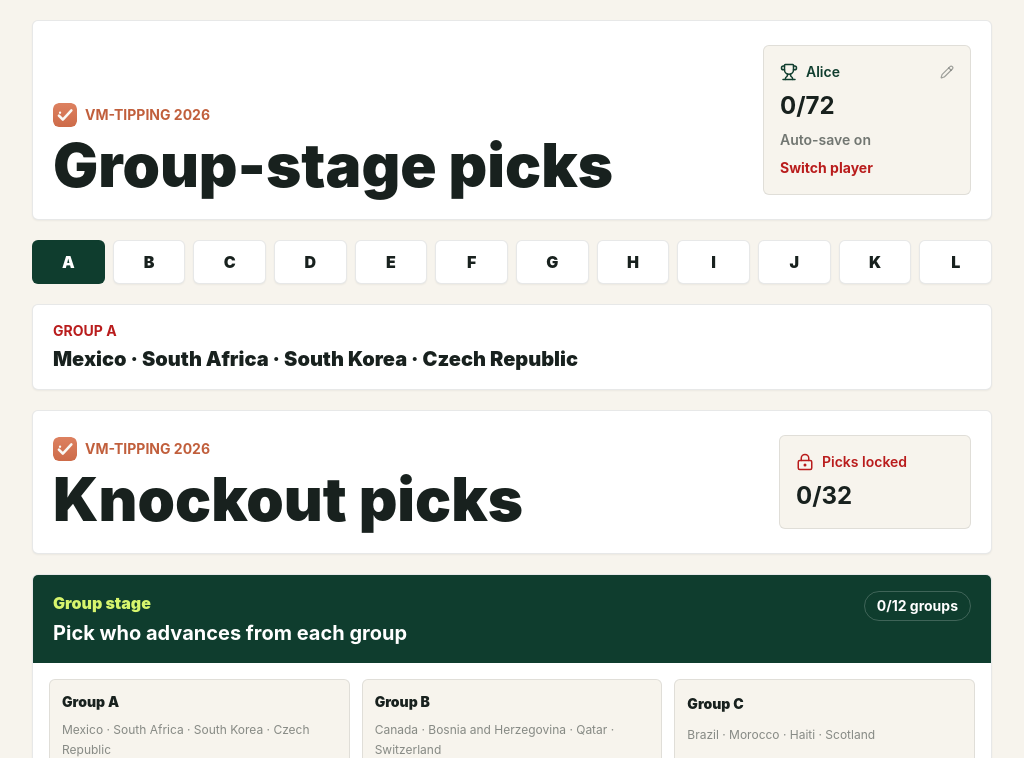
Test: PlayerPage › renaming updates the stored session and moves the local knockout picks
The image size is (1024, 758).
Click the button named "Edit name" at [947, 72], box left=940, top=65, right=954, bottom=79
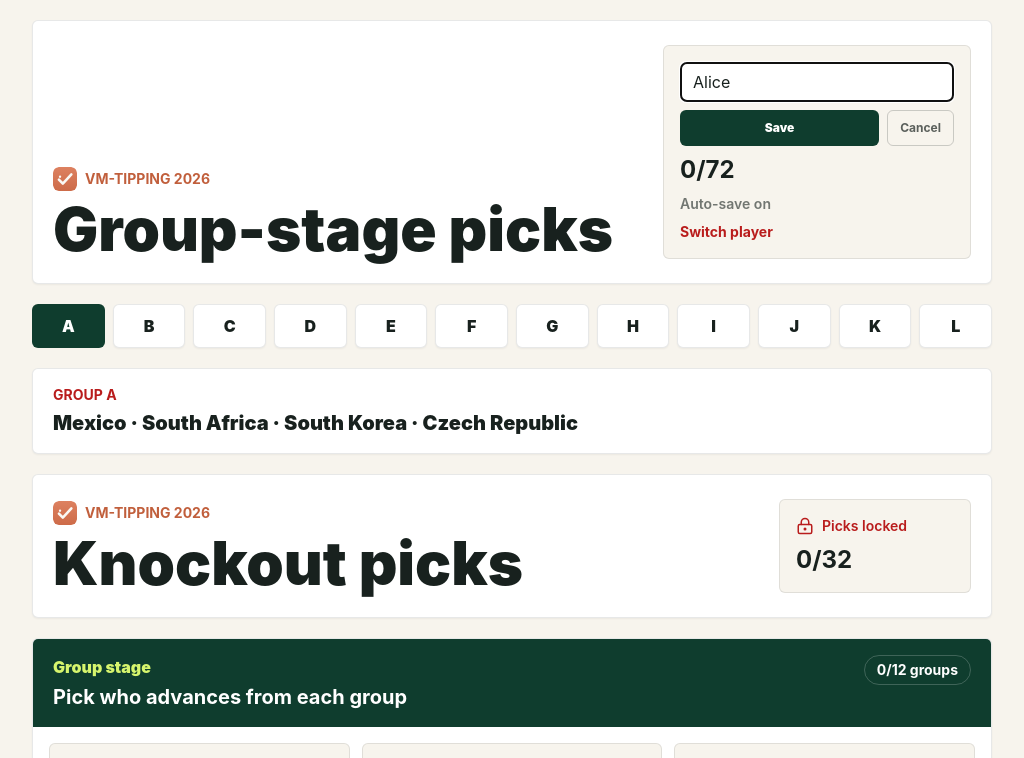
Replace the text in the field with placeholder "Your name" with "Alicia" at [817, 82], box left=680, top=62, right=954, bottom=102
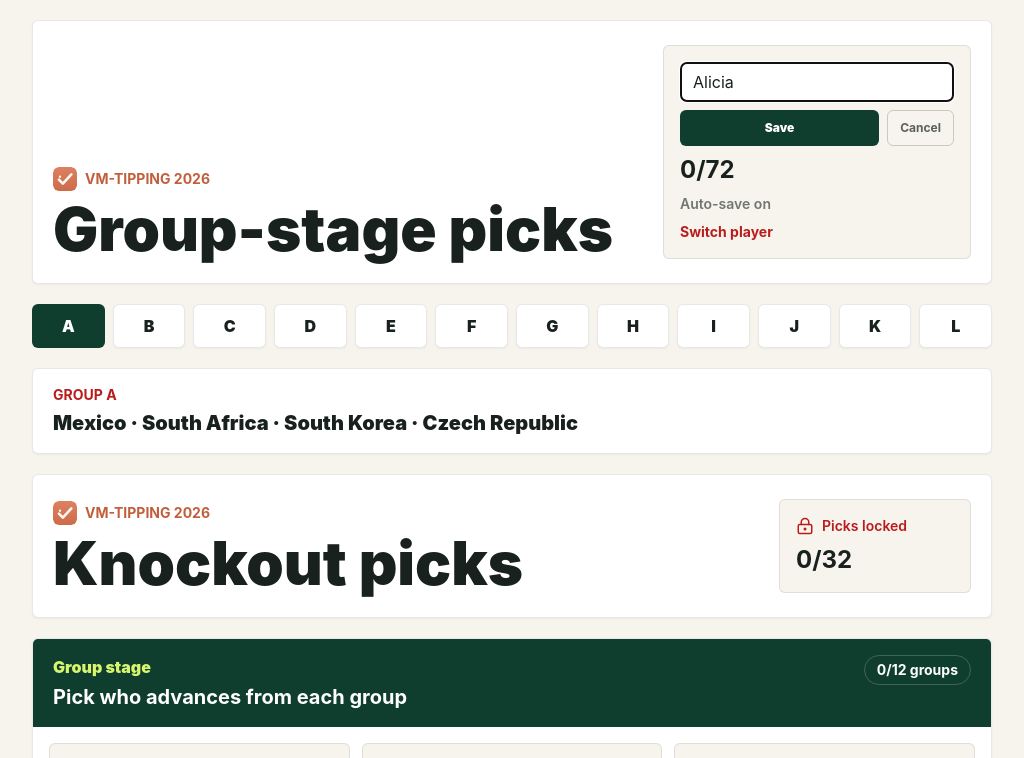
Click the button "Save" at [780, 128], box left=680, top=110, right=879, bottom=146
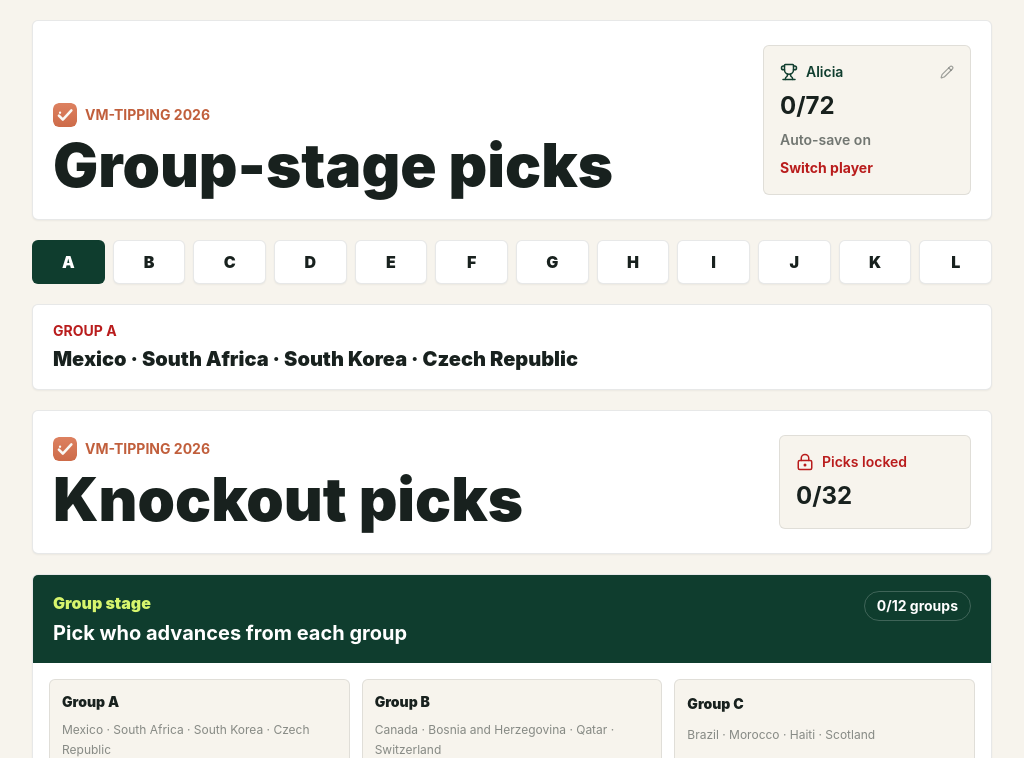
Expected: the text "Alicia" is shown, left=806, top=62, right=843, bottom=82
